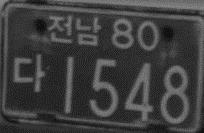0: (137, 19, 159, 51)
1: (63, 54, 74, 117)
4: (122, 61, 155, 121)
5: (86, 55, 119, 117)
8: (160, 64, 191, 125), (110, 17, 134, 48)
다: (12, 51, 45, 94)
전남_O: (45, 14, 102, 46)
